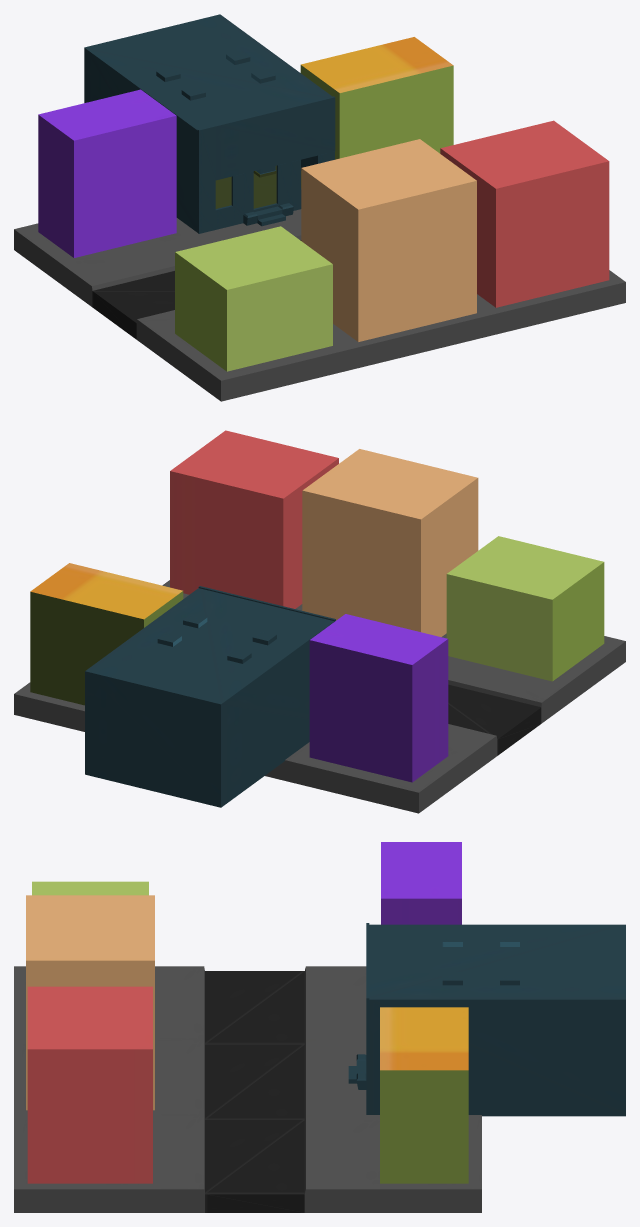
File: meta_vvc_sala_home2.glb
The picture shows the model from 3 angles, top to bottom: view 1: azimuth 30°, elevation 25°; view 2: azimuth 150°, elevation 25°; view 3: azimuth 270°, elevation 25°; orthographic projection. The views are drawn at different scales.
Parts seen in each view (by area): view 1: home; view 2: home; view 3: home.
Boxes of the visible parts, <box> form: home: <box>14,14,625,401</box>; home: <box>14,430,625,813</box>; home: <box>14,842,625,1212</box>.
Bounding box in the file's own units: 1191 × 431 × 1381.
1 material, 1 textured.
